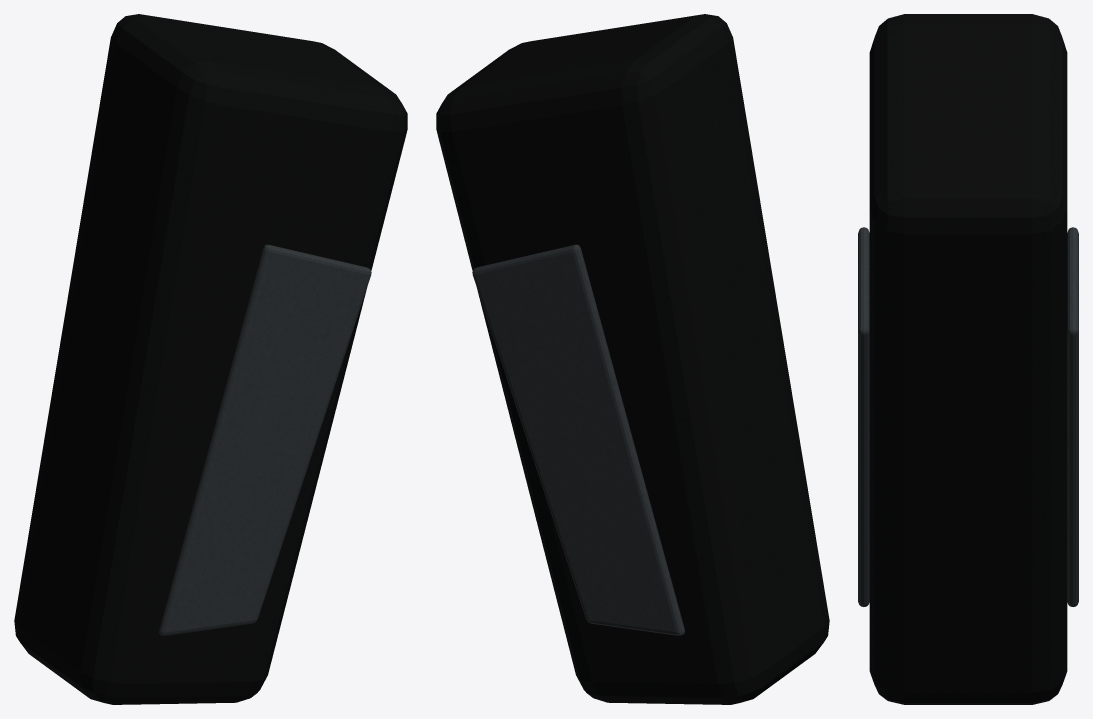
Rendered from wisp02.grip.glb.
3 renders of one model, left to right at view 1: azimuth 30°, elevation 25°; view 2: azimuth 150°, elevation 25°; view 3: azimuth 270°, elevation 25°, orthographic. The views are drawn at different scales.
Parts seen in each view (by area): view 1: VIS_wisp02_grip; view 2: VIS_wisp02_grip; view 3: VIS_wisp02_grip.
Boxes of the visible parts, x1,y1,x2,y2 form: VIS_wisp02_grip: (14,14,407,704); VIS_wisp02_grip: (436,14,829,704); VIS_wisp02_grip: (858,14,1078,704).
Size of the model in its own units: 0.0664 by 0.1269 by 0.038.
2 materials, 2 textured.
